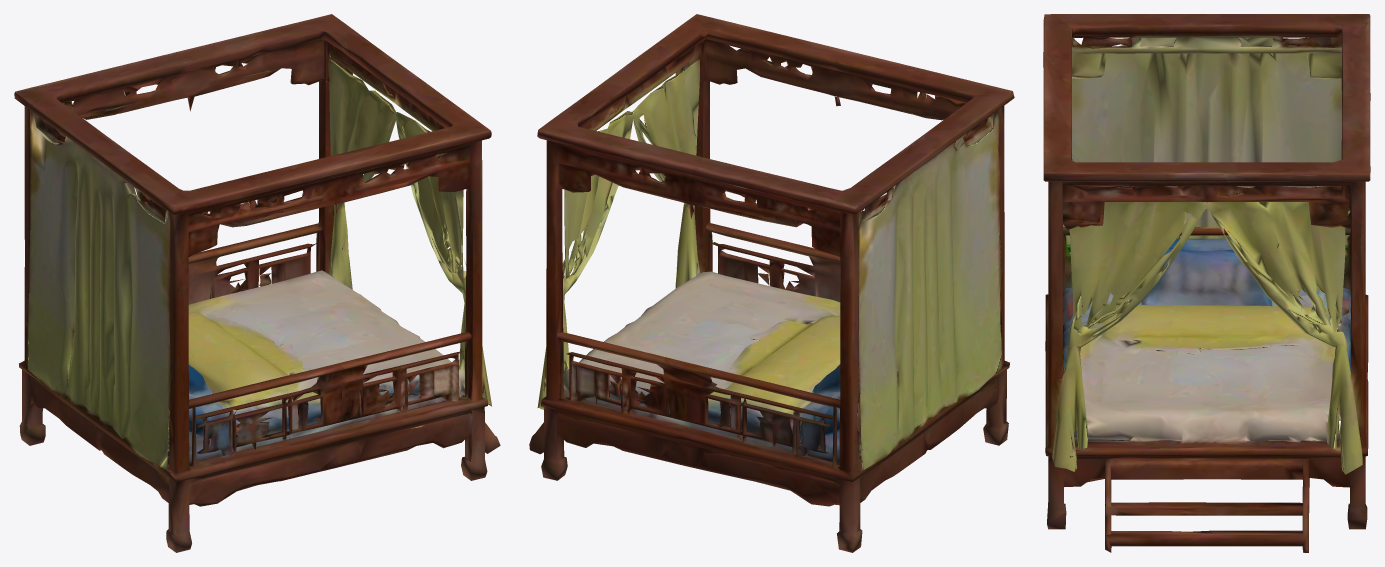
The model's file is jiazichuang.glb.
The picture shows the model from 3 angles, left to right: view 1: azimuth 30°, elevation 25°; view 2: azimuth 150°, elevation 25°; view 3: azimuth 270°, elevation 25°; orthographic projection. The views are drawn at different scales.
Visible parts, largest first — view 1: tripo_node_a6c60d6e-47d4-4148-8912-4a2d24907272; view 2: tripo_node_a6c60d6e-47d4-4148-8912-4a2d24907272; view 3: tripo_node_a6c60d6e-47d4-4148-8912-4a2d24907272.
Boxes of the visible parts, x1,y1,x2,y2 form: tripo_node_a6c60d6e-47d4-4148-8912-4a2d24907272: [14, 14, 500, 552]; tripo_node_a6c60d6e-47d4-4148-8912-4a2d24907272: [529, 14, 1014, 552]; tripo_node_a6c60d6e-47d4-4148-8912-4a2d24907272: [1043, 14, 1370, 552].
Size of the model in its own units: 1.06 by 1 by 0.817.
Materials: 1 (1 with a texture image).
